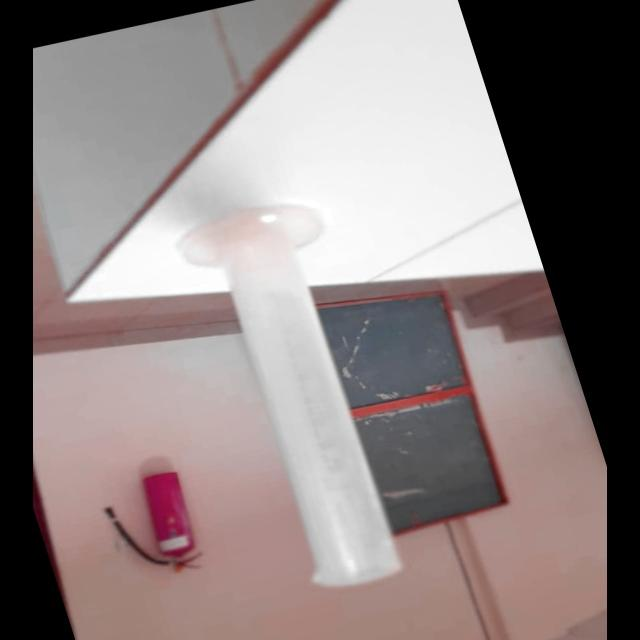Measuring Cylinder: (173, 187, 453, 602)
